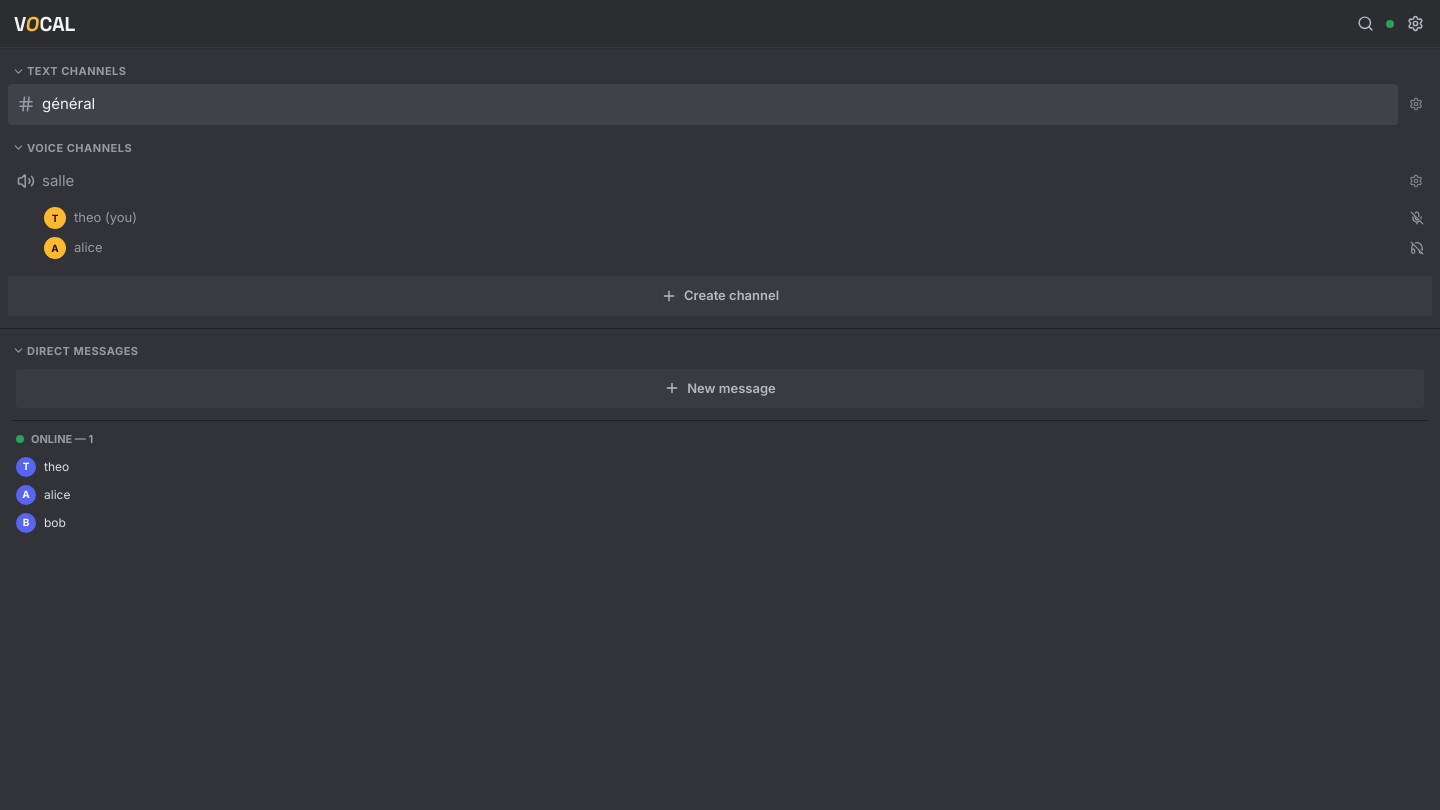
Test: NewConversationModal › lists online members to pick from without typing anything
Click the button "New message" at (720, 388), box x1=16 y1=368 x2=1424 y2=408
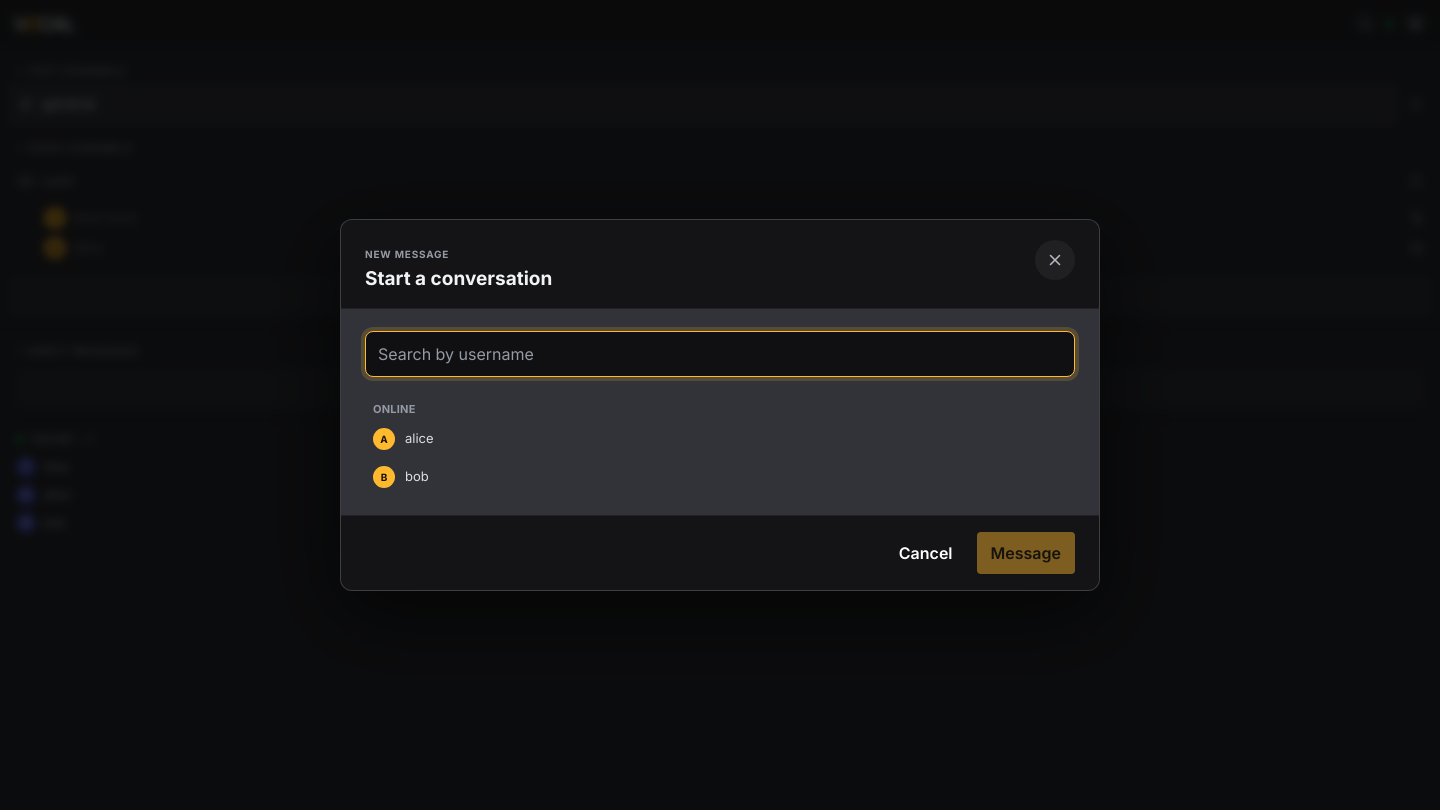
Result: the text "alice" is shown at x1=405 y1=429 x2=434 y2=449
Result: the text "bob" is shown at x1=405 y1=467 x2=429 y2=487
